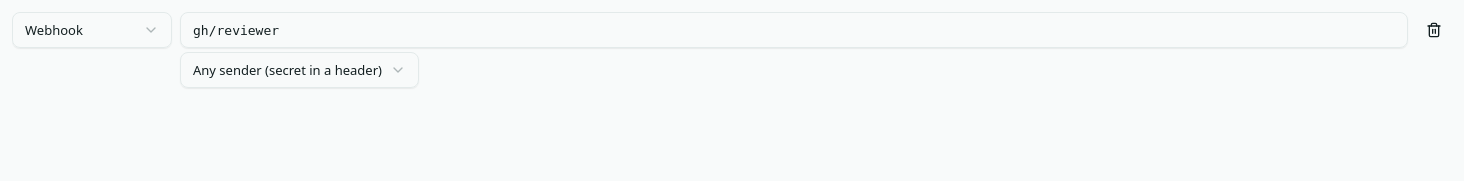
Scenario: a webhook that comes from GitHub › takes GitHub as the source and the events typed
Click the dropdown named "Sent by" at (299, 70), box [180, 52, 419, 88]
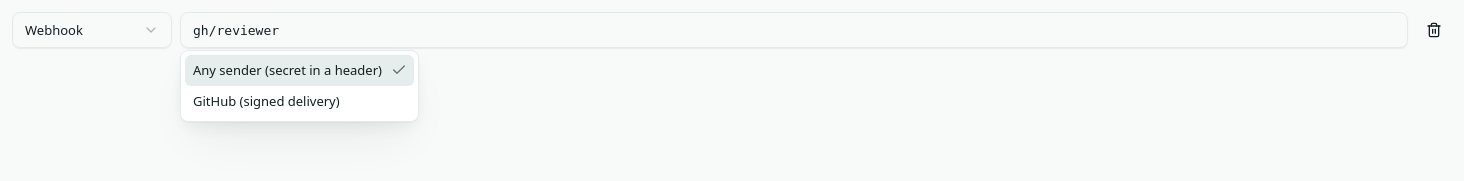
Click the option "GitHub (signed delivery)" at (266, 100), box [193, 92, 340, 110]
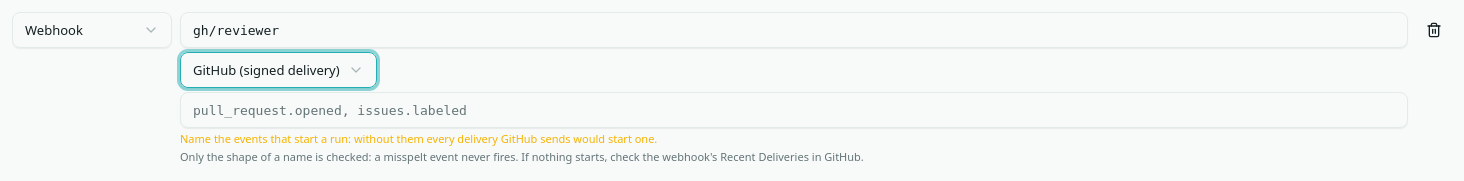
expect the text "Name the events" is shown: met, box [180, 131, 657, 146]
Type "pull_request.opened, issues" into the field named "GitHub events" at (794, 110), box [180, 92, 1408, 128]
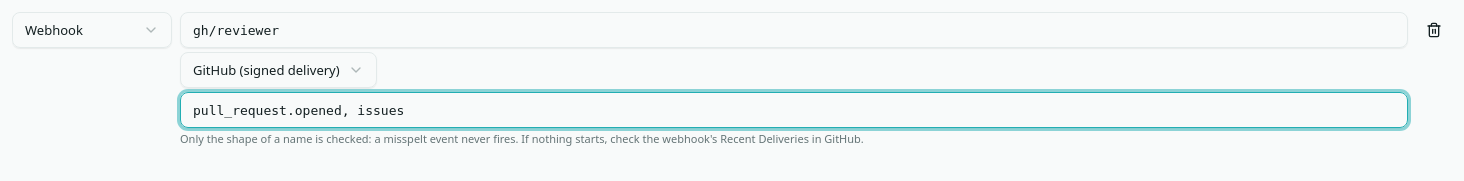
expect the text "Name the events" is gone: met
